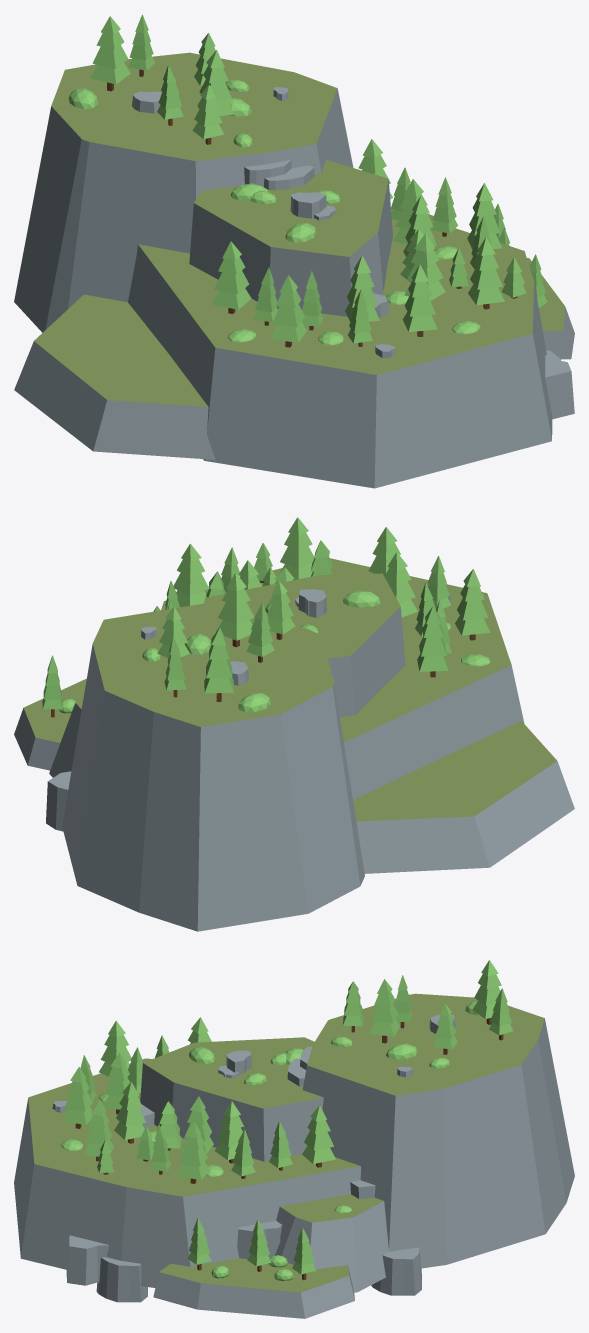
File: MountainBackground3.fbx
3 views of the same model, one above another, from view 1: azimuth 30°, elevation 25°; view 2: azimuth 150°, elevation 25°; view 3: azimuth 270°, elevation 25° (orthographic). The views are drawn at different scales.
Parts seen in each view (by area): view 1: Cube.012, Cube.007, Cube.011, Cube.008, Cube.013, Cube.622, Cube.618, Cube.624, Cube.617, Cube.595; view 2: Cube.007, Cube.011, Cube.012, Cube.008, Cube.013, Cube.009, Cube.615, Cube.624, Cube.604, Cube.544, Cube.518, Cube.603 (+1 smaller); view 3: Cube.007, Cube.012, Cube.008, Cube.013, Cube.009, Cube.621, Cube.615, Cube.622, Cube.639, Cube.624.
Part boxes in pixels (bbox=[...]): Cube.012: bbox=[128, 209, 552, 488]; Cube.007: bbox=[14, 52, 353, 332]; Cube.011: bbox=[14, 294, 215, 459]; Cube.008: bbox=[189, 160, 392, 316]; Cube.013: bbox=[527, 258, 574, 359]; Cube.622: bbox=[545, 355, 574, 419]; Cube.618: bbox=[264, 165, 314, 190]; Cube.624: bbox=[290, 192, 326, 218]; Cube.617: bbox=[244, 160, 291, 186]; Cube.595: bbox=[90, 63, 130, 91]; Cube.007: bbox=[62, 600, 364, 931]; Cube.011: bbox=[353, 721, 574, 873]; Cube.012: bbox=[161, 558, 524, 799]; Cube.008: bbox=[204, 573, 405, 717]; Cube.013: bbox=[14, 678, 86, 770]; Cube.009: bbox=[49, 684, 85, 777]; Cube.615: bbox=[46, 771, 71, 831]; Cube.624: bbox=[298, 589, 326, 617]; Cube.604: bbox=[218, 602, 254, 625]; Cube.544: bbox=[173, 573, 208, 595]; Cube.518: bbox=[280, 546, 314, 569]; Cube.603: bbox=[215, 620, 252, 647]; Cube.007: bbox=[302, 993, 574, 1268]; Cube.012: bbox=[14, 1058, 360, 1287]; Cube.008: bbox=[140, 1037, 323, 1161]; Cube.013: bbox=[153, 1256, 354, 1318]; Cube.009: bbox=[275, 1194, 388, 1292]; Cube.621: bbox=[96, 1257, 147, 1302]; Cube.615: bbox=[371, 1247, 421, 1295]; Cube.622: bbox=[66, 1235, 109, 1285]; Cube.639: bbox=[237, 1221, 282, 1259]; Cube.624: bbox=[226, 1050, 251, 1074].
Bounding box in the file's own units: 4143 × 2225 × 4649.
